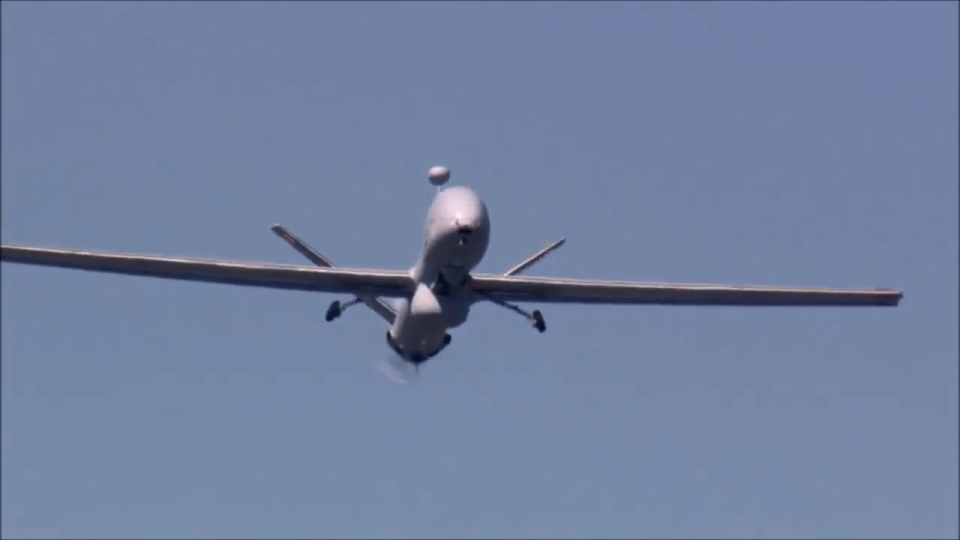military drone: (0, 164, 903, 373)
